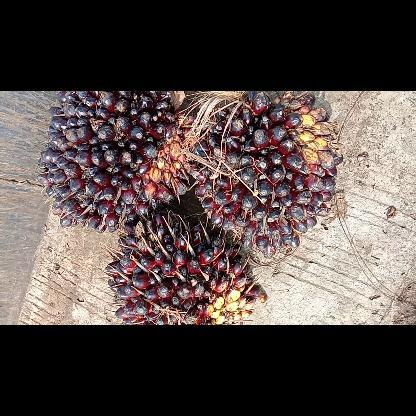TBS mentah: (191, 91, 346, 259), (35, 90, 195, 233), (105, 210, 271, 324)
